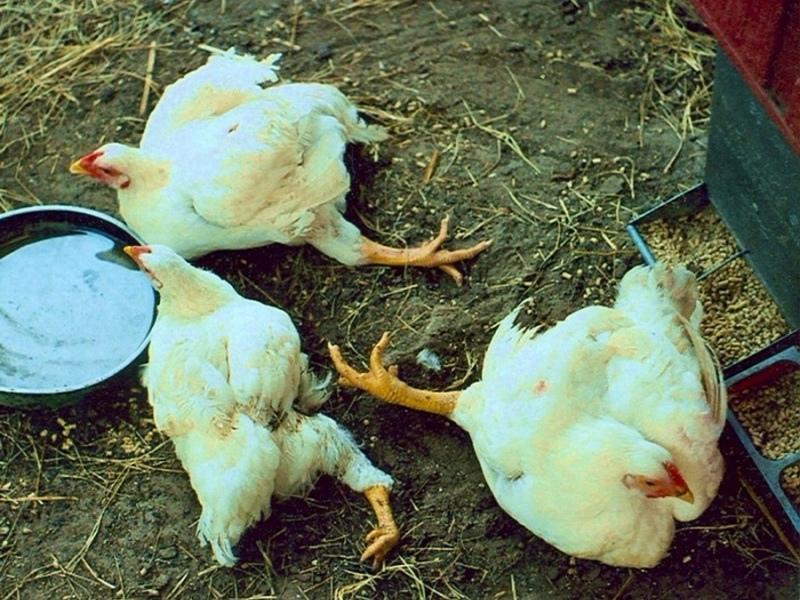AbNormal: (328, 314, 725, 571), (70, 53, 485, 284), (121, 246, 400, 569)
